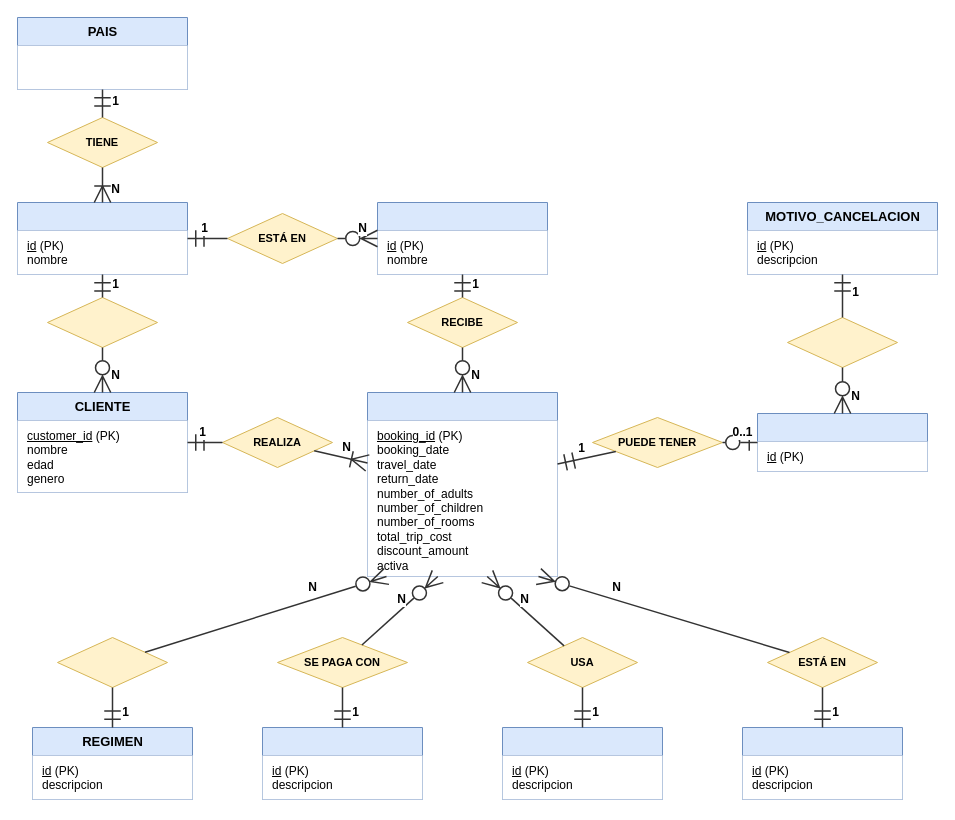
This 955x820 diagram has some shape labels left out. The shapes that lost their labels are listed below. From the top down, each one's box as (x1, y1, x2, y2) in pixels, then its label:
(17, 45, 187, 89): nombre (PK) region
(16, 202, 188, 274): CIUDAD
(376, 202, 548, 274): HOTEL
(46, 296, 158, 348): VIVE EN
(786, 316, 898, 368): SE DEBE A
(756, 412, 928, 472): CANCELACION
(366, 392, 558, 576): RESERVA
(56, 636, 168, 688): INCLUYE
(262, 726, 422, 800): MEDIO_PAGO
(502, 726, 662, 800): TRANSPORTE
(742, 726, 902, 800): ESTADO_RESERVA
